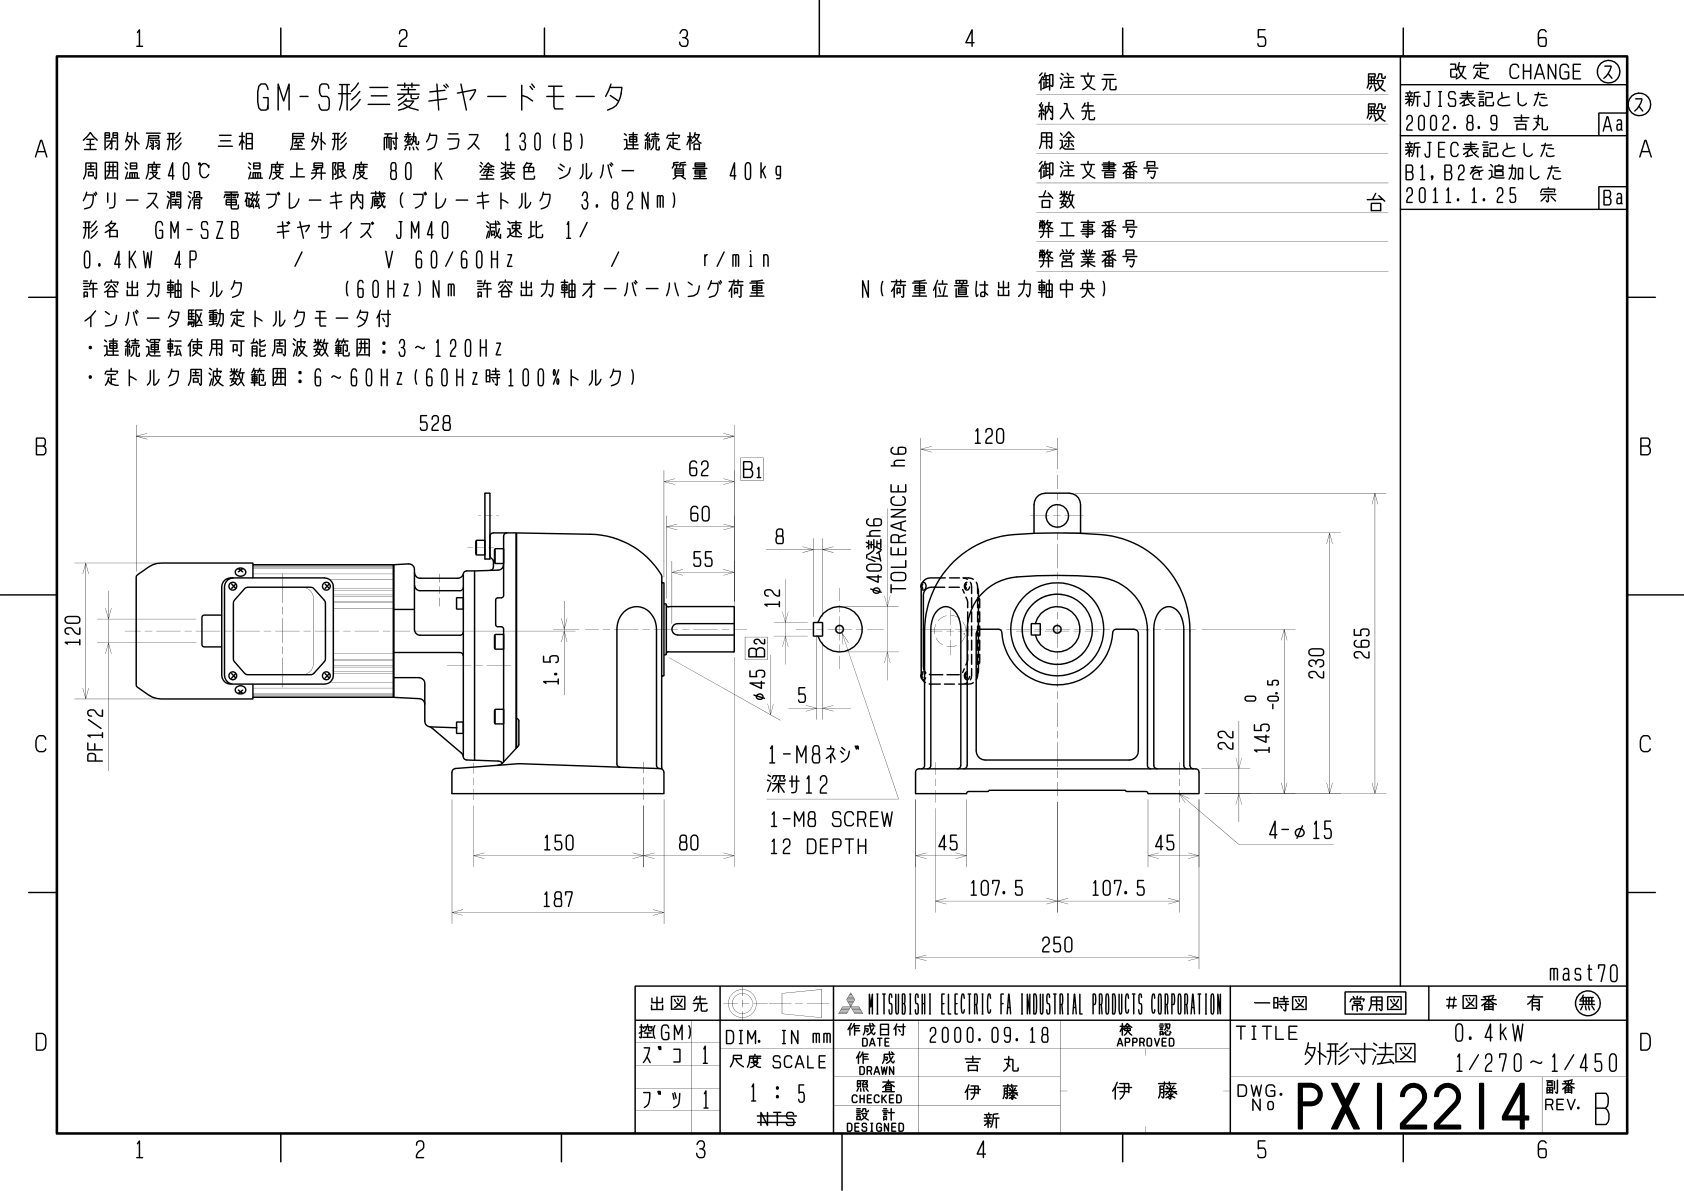GM_S_インバタ屋外＿三相_脚: (61, 396, 1389, 969)
